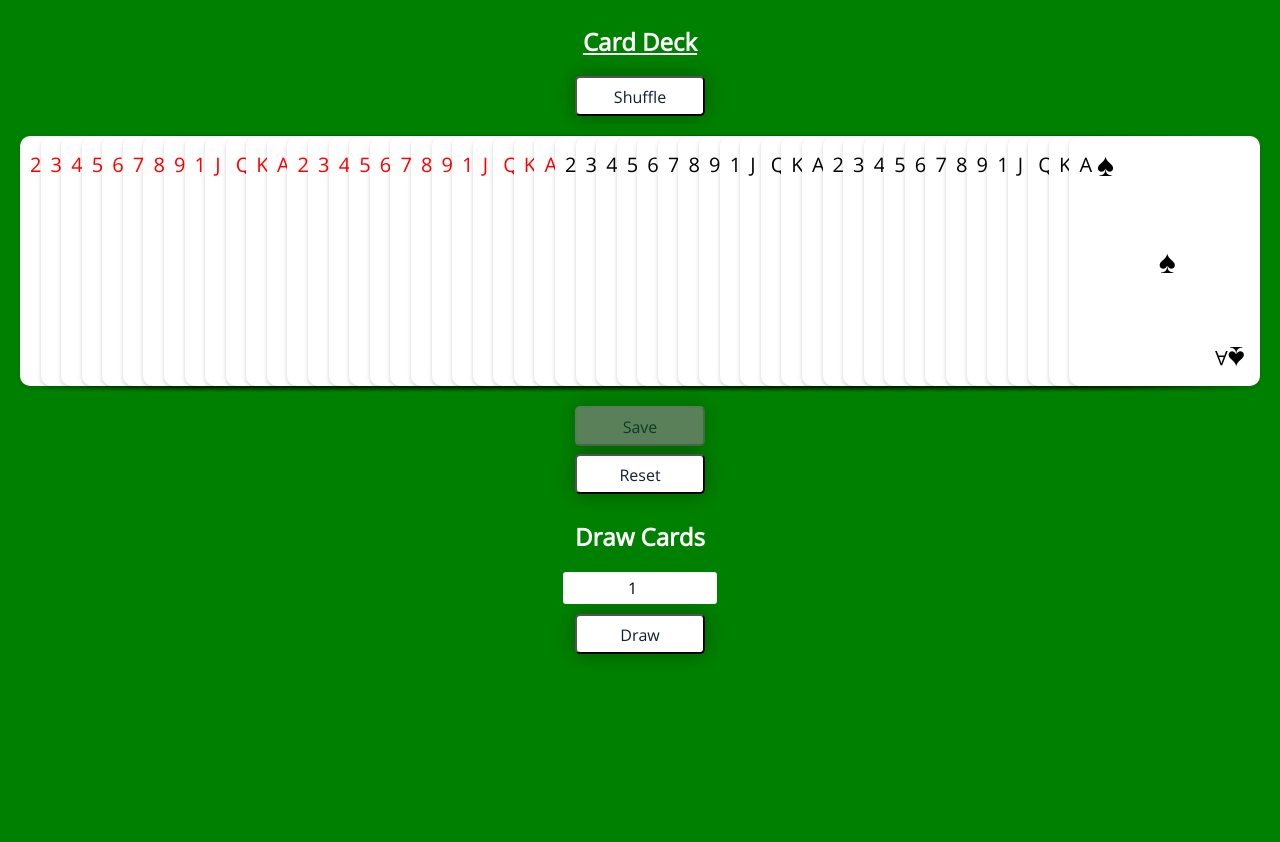
Test: <Home /> › renders MyCards component when draw button is clicked
Click the button "Draw": (640, 634) [575,614,705,654]
(page scrolled)
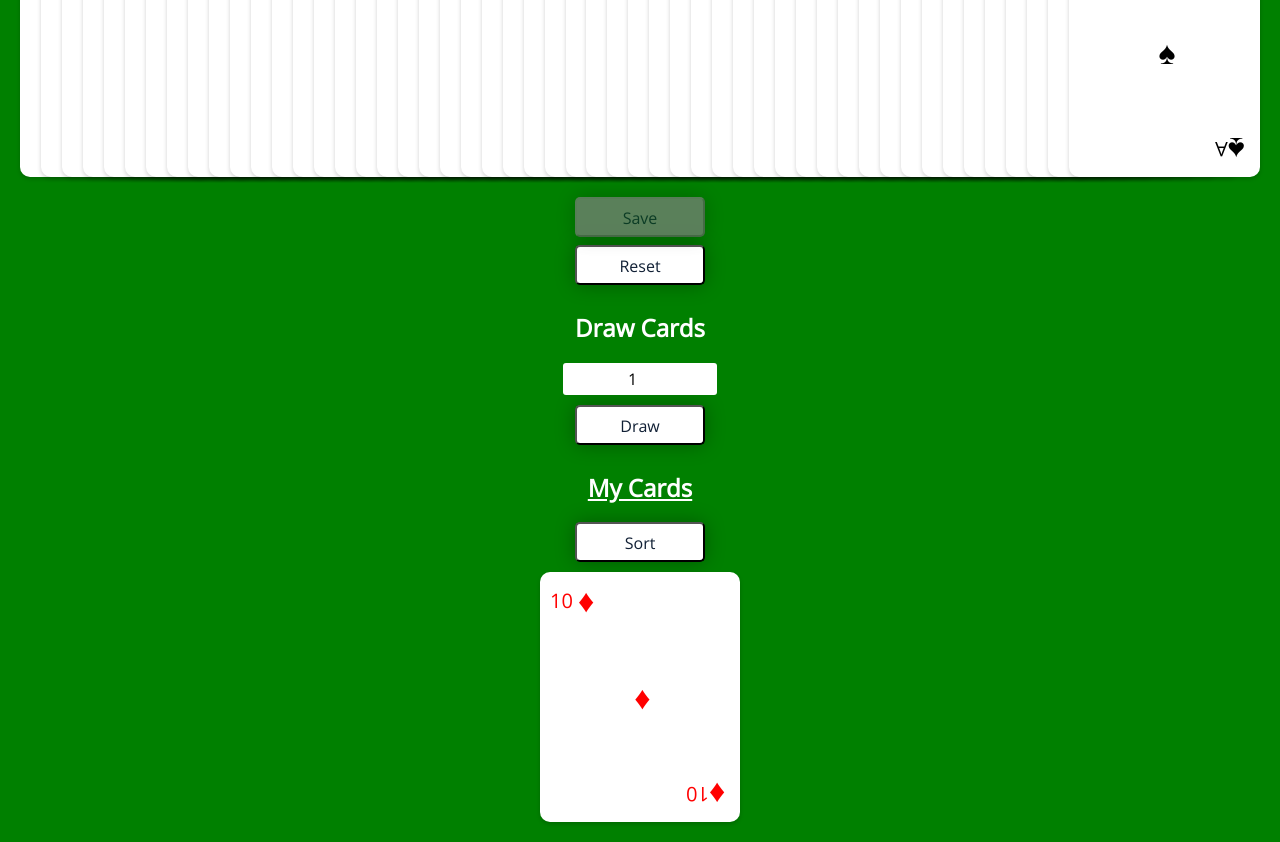
Check: the element with test id "my-cards" is shown, box [540,472,740,822]
